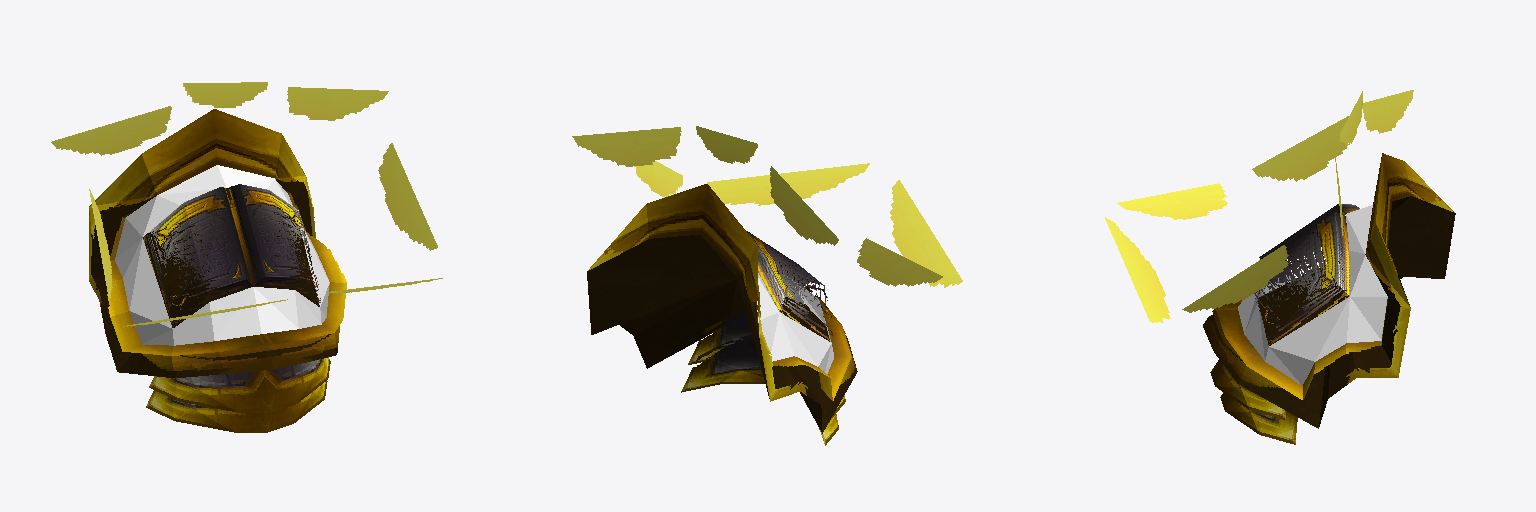
3 renders of one model, left to right at view 1: azimuth 30°, elevation 25°; view 2: azimuth 150°, elevation 25°; view 3: azimuth 270°, elevation 25°, orthographic.
Parts seen in each view (by area): view 1: Geoset_0, Geoset_1, Geoset_3; view 2: Geoset_0, Geoset_3, Geoset_1; view 3: Geoset_0, Geoset_3, Geoset_1.
Part boxes in pixels (left/top/right/bottom): Geoset_0: left=89, top=109, right=346, bottom=432; Geoset_1: left=115, top=165, right=329, bottom=345; Geoset_3: left=51, top=82, right=442, bottom=326; Geoset_0: left=587, top=184, right=857, bottom=445; Geoset_3: left=572, top=126, right=962, bottom=287; Geoset_1: left=757, top=273, right=833, bottom=373; Geoset_0: left=1203, top=153, right=1455, bottom=444; Geoset_3: left=1105, top=90, right=1413, bottom=322; Geoset_1: left=1238, top=205, right=1387, bottom=385.
Size of the model in its own units: 0.7193 by 0.6276 by 0.665.
6 materials, 3 textured.